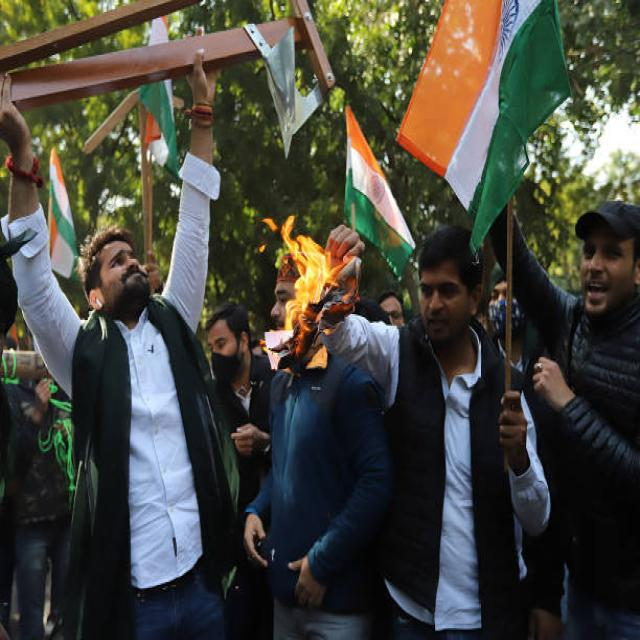fire: (259, 214, 359, 355)
